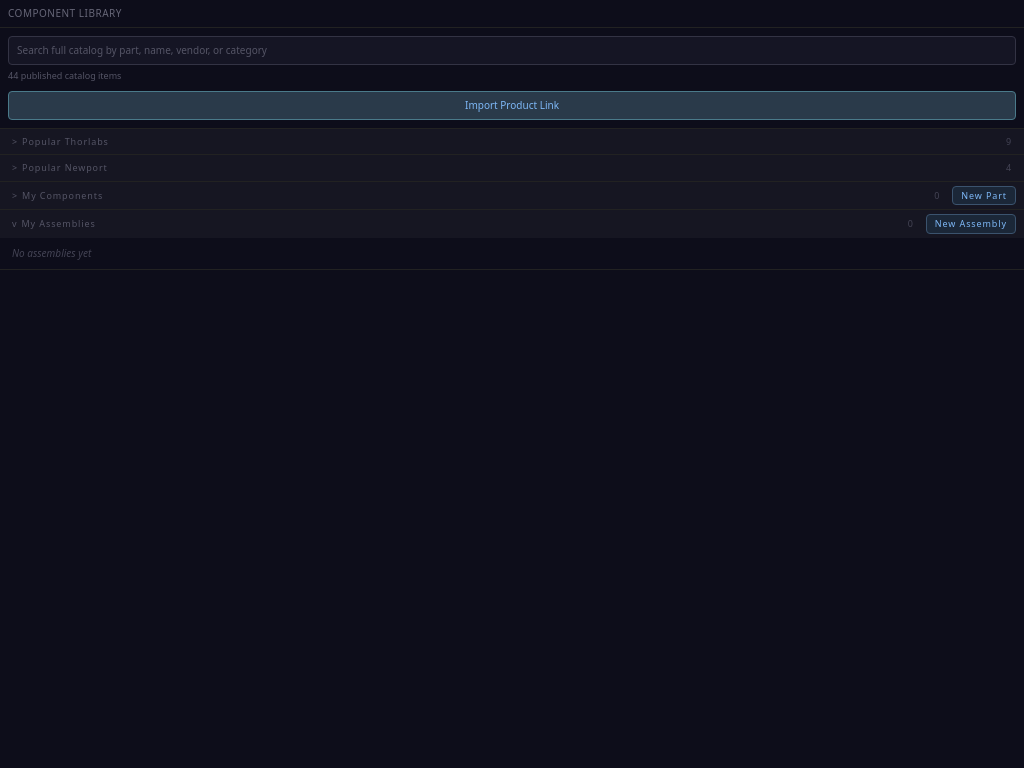
Test: ComponentLibrary › creates a new assembly from an existing component
Click the button "New Assembly": (971, 224) [926,214,1016,234]
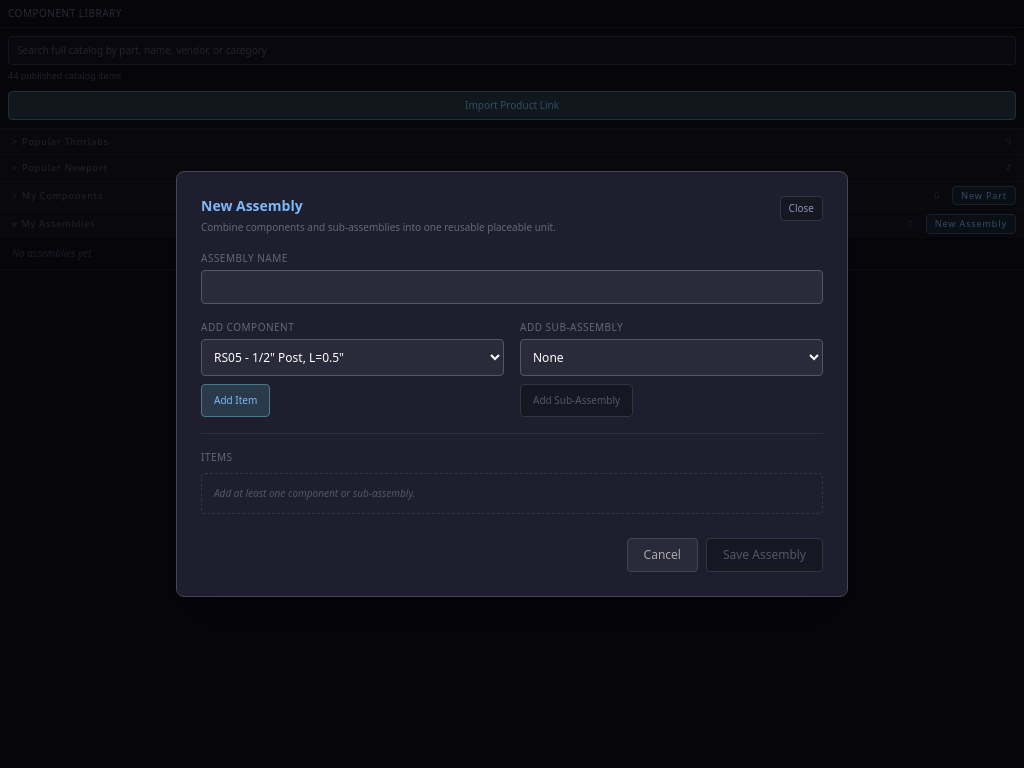
In the field labelled "Assembly Name": (512, 287) [201,270,823,304], type "Mirror Station"
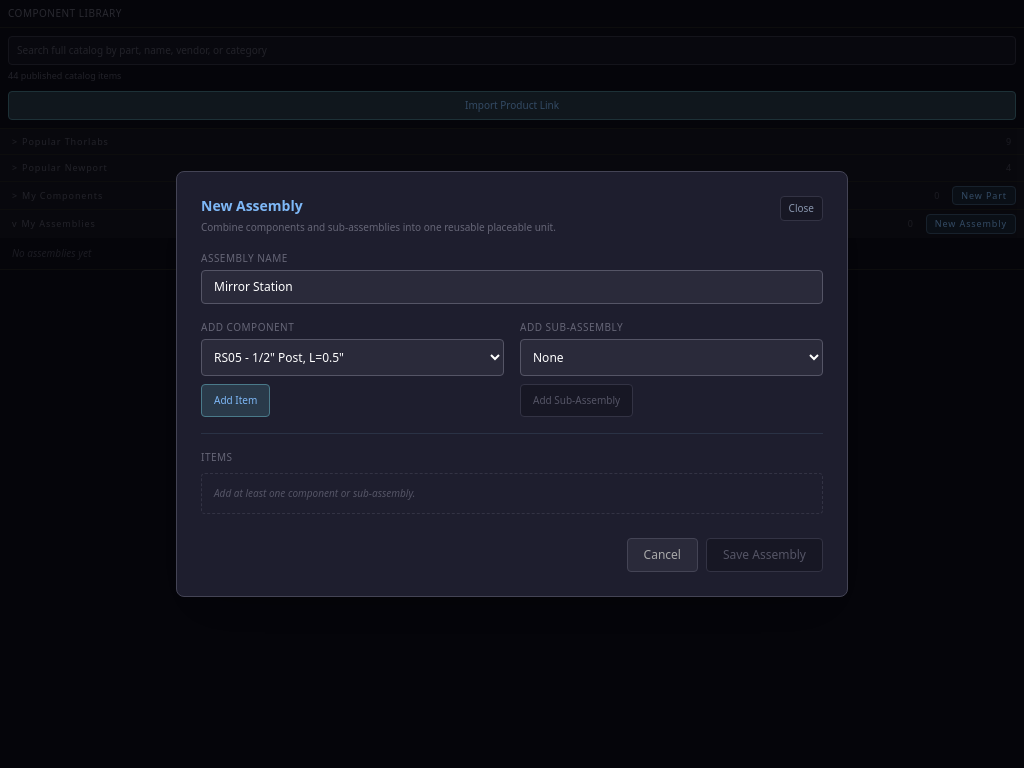
Select "KM100 - 1\" Kinematic Mirror Mount" in the dropdown labelled "Add Component": (352, 358) [201,339,504,376]
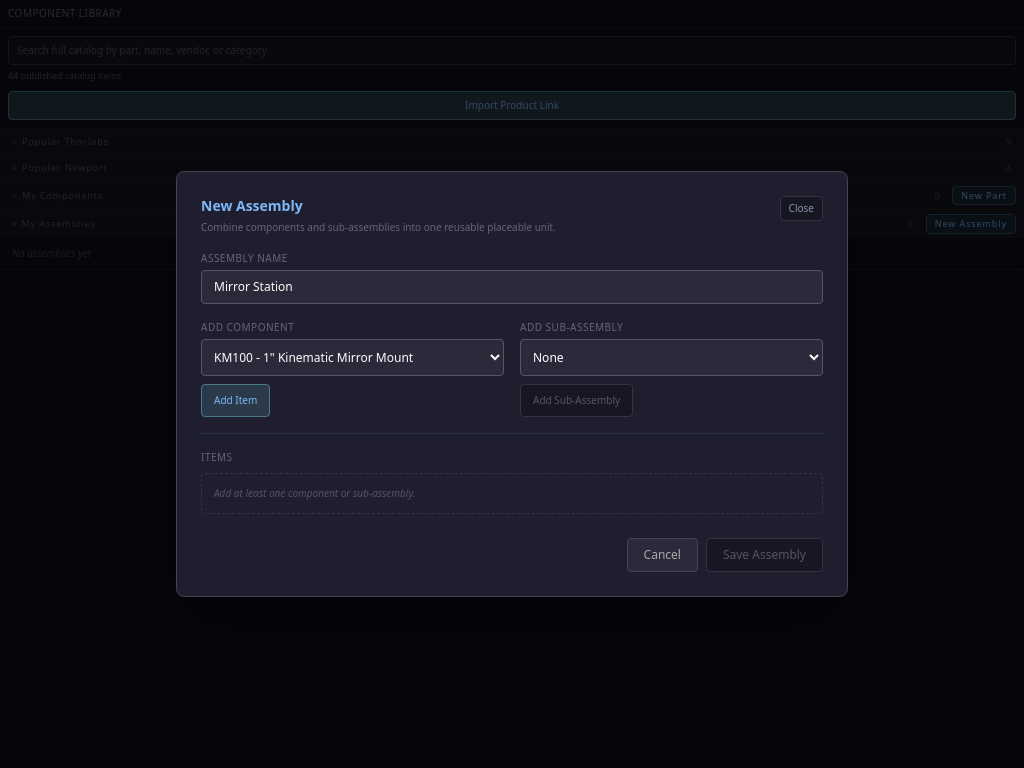
Click the button "Add Item": (236, 400) [201,384,270,417]
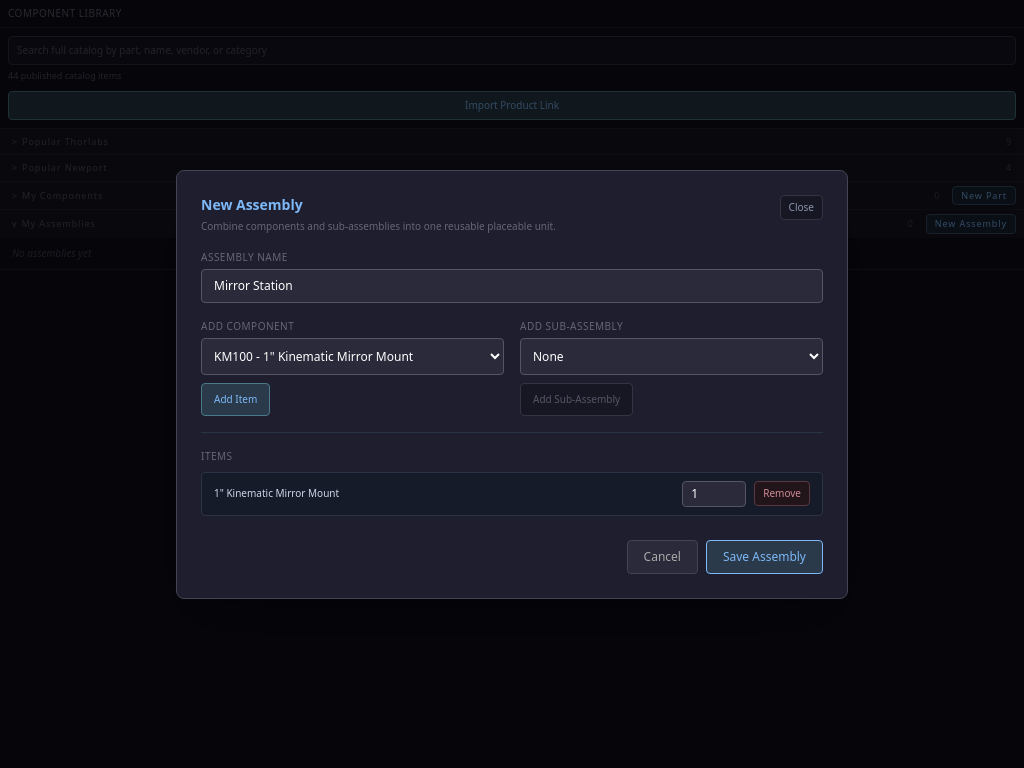
Click the button "Save Assembly": (764, 556) [706,540,823,574]
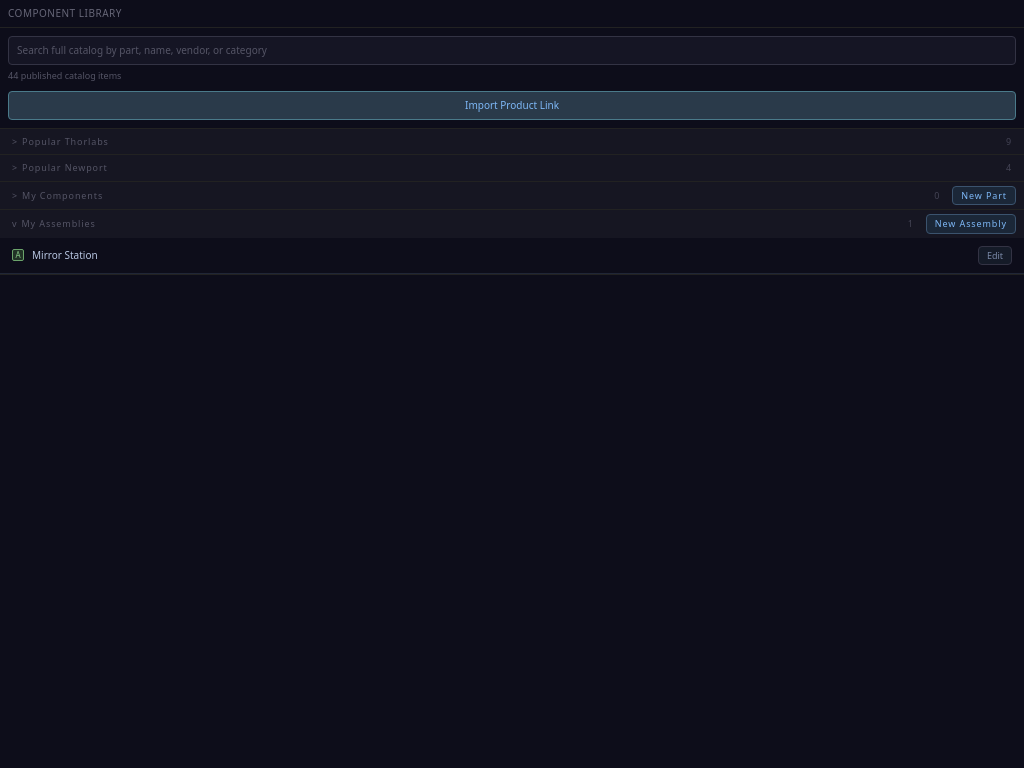
Result: the text "Mirror Station" is shown at [32,248,98,262]
